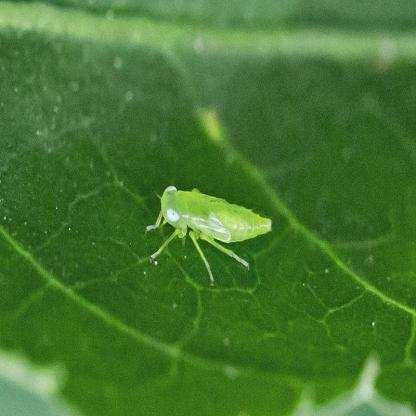green-leafhopper: (146, 183, 274, 280)
